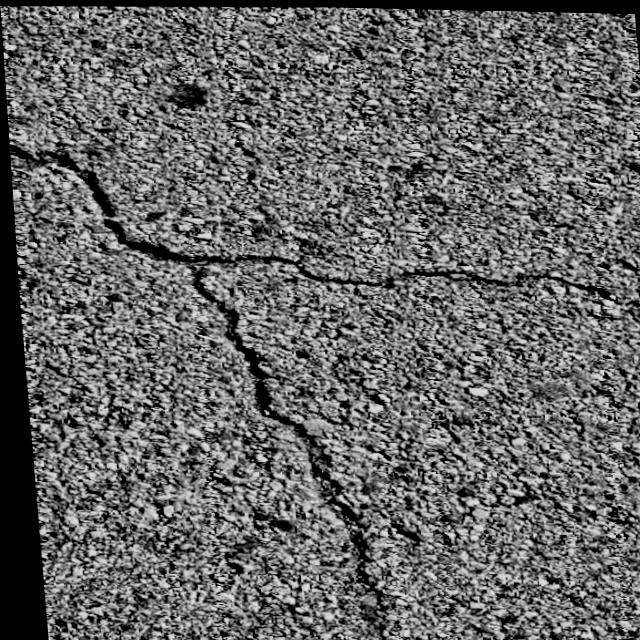cracks: (62, 154, 182, 258), (218, 304, 293, 425), (290, 424, 361, 543), (255, 508, 308, 533), (190, 267, 214, 303), (258, 459, 275, 476)
